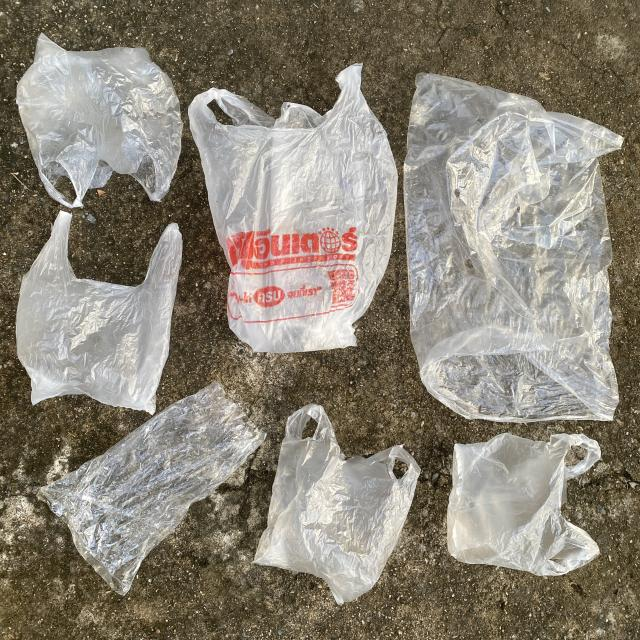Single-layer Plastic: (404, 74, 622, 422), (189, 64, 398, 352), (38, 382, 265, 595), (16, 211, 182, 414), (254, 404, 420, 604), (16, 34, 182, 208), (448, 434, 601, 576)
